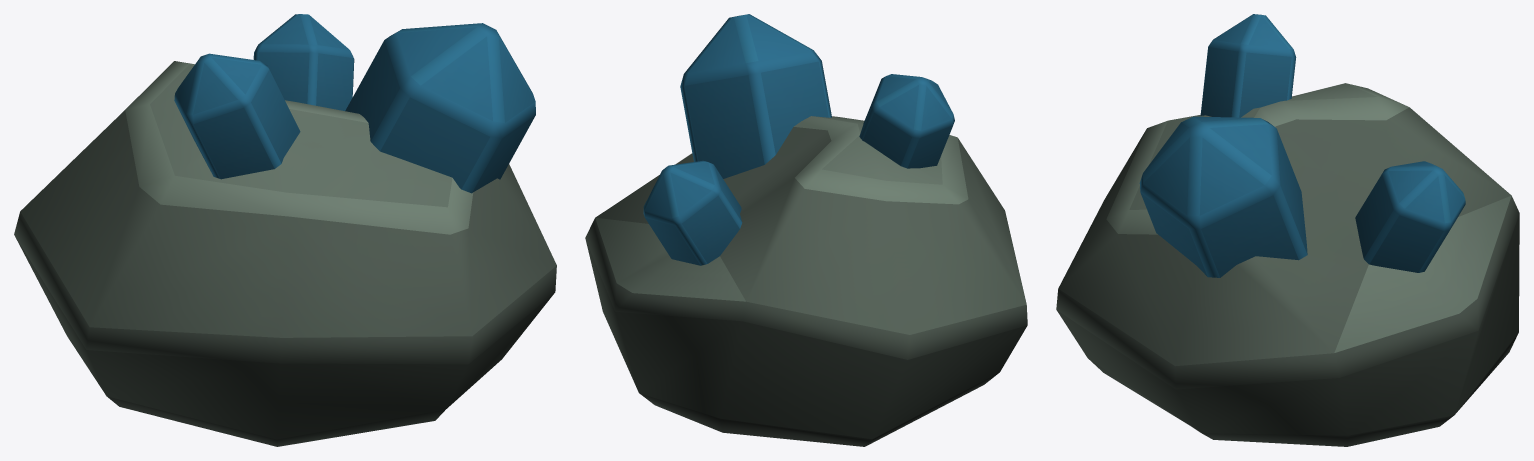
The model's file is ore_christal_saphire_S.fbx.
3 views of the same model, side by side, from view 1: azimuth 30°, elevation 25°; view 2: azimuth 150°, elevation 25°; view 3: azimuth 270°, elevation 25° (orthographic). The views are drawn at different scales.
Parts seen in each view (by area): view 1: ore_christal_saphire_S; view 2: ore_christal_saphire_S; view 3: ore_christal_saphire_S.
Boxes of the visible parts, left/top/right/bottom form: ore_christal_saphire_S: left=14, top=14, right=556, bottom=446; ore_christal_saphire_S: left=585, top=14, right=1027, bottom=446; ore_christal_saphire_S: left=1056, top=14, right=1519, bottom=446.
Size of the model in its own units: 115 by 96.07 by 110.
1 material, 1 textured.
